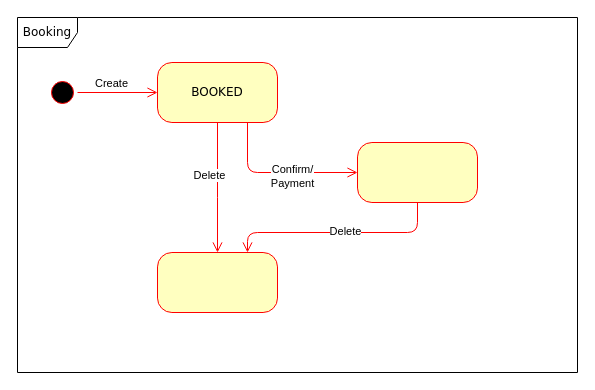
Image size: 595x390. Some labels were removed from this diagram. The box of each missing label's shape, as (x1, y1, x2, y2) in pixels:
CANCELLED: (156, 252, 278, 312)
CONFIRMED: (356, 142, 478, 202)
